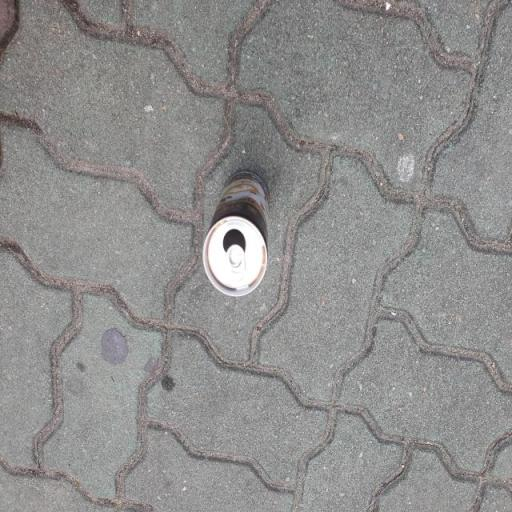metal: (194, 155, 294, 321)
